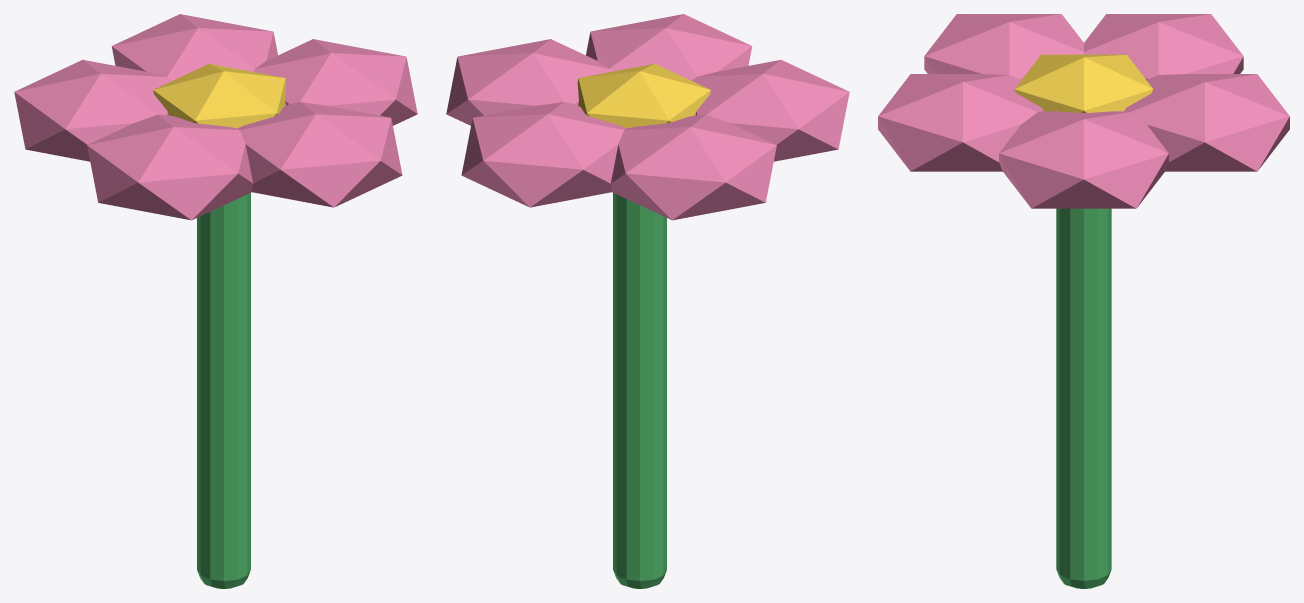
The model's file is Flower.fbx.
3 views of the same model, side by side, from view 1: azimuth 30°, elevation 25°; view 2: azimuth 150°, elevation 25°; view 3: azimuth 270°, elevation 25° (orthographic). The views are drawn at different scales.
Visible parts, largest first — view 1: FlowerStem, FlowerPetal_216, FlowerPetal_288, FlowerPetal_144, FlowerPetal_0, FlowerPetal_72, FlowerCenter; view 2: FlowerStem, FlowerPetal_144, FlowerPetal_72, FlowerPetal_216, FlowerPetal_0, FlowerPetal_288, FlowerCenter; view 3: FlowerStem, FlowerPetal_0, FlowerPetal_288, FlowerPetal_72, FlowerPetal_144, FlowerPetal_216, FlowerCenter.
Part boxes in pixels (box(x1,y1,x2,y2)): FlowerStem: box(197, 193, 250, 588); FlowerPetal_216: box(87, 114, 253, 220); FlowerPetal_288: box(238, 102, 402, 207); FlowerPetal_144: box(14, 59, 172, 161); FlowerPetal_0: box(253, 39, 417, 125); FlowerPetal_72: box(111, 14, 277, 80); FlowerCenter: box(153, 63, 286, 128); FlowerStem: box(613, 193, 666, 588); FlowerPetal_144: box(610, 114, 776, 220); FlowerPetal_72: box(461, 102, 625, 207); FlowerPetal_216: box(691, 59, 849, 161); FlowerPetal_0: box(446, 39, 610, 125); FlowerPetal_288: box(586, 14, 752, 80); FlowerCenter: box(577, 63, 710, 128); FlowerStem: box(1056, 208, 1111, 588); FlowerPetal_0: box(999, 111, 1168, 208); FlowerPetal_288: box(878, 74, 1043, 171); FlowerPetal_72: box(1124, 74, 1289, 171); FlowerPetal_144: box(1084, 14, 1243, 80); FlowerPetal_216: box(924, 14, 1083, 80); FlowerCenter: box(1014, 54, 1153, 112).
Bounding box in the file's own units: 0.45 × 0.6395 × 0.4534.
